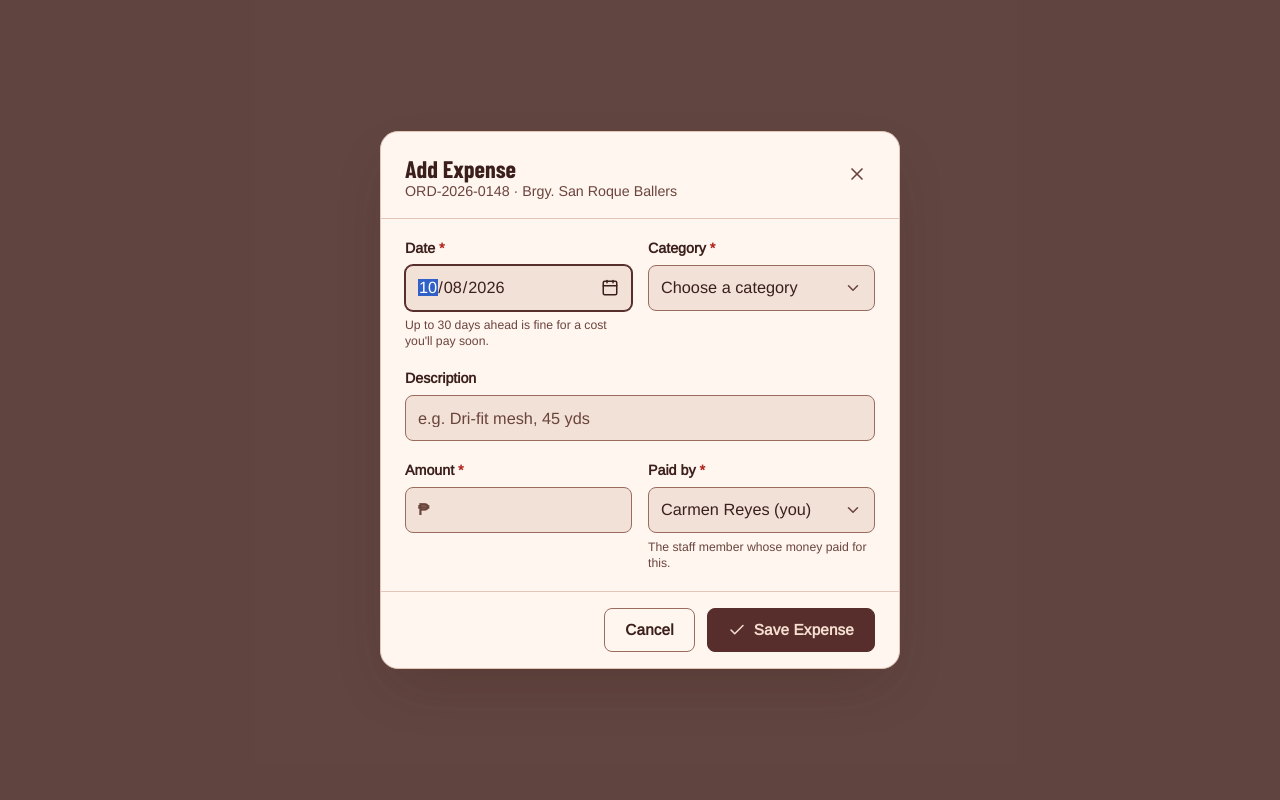
Test: add mode checks before any request (OR-3) › shows "Choose a category." when only the category is missing, focuses it and sends nothing
Step 1. Type "1500" into the field labelled "Amount *" → (530, 510), box [429, 488, 631, 532]
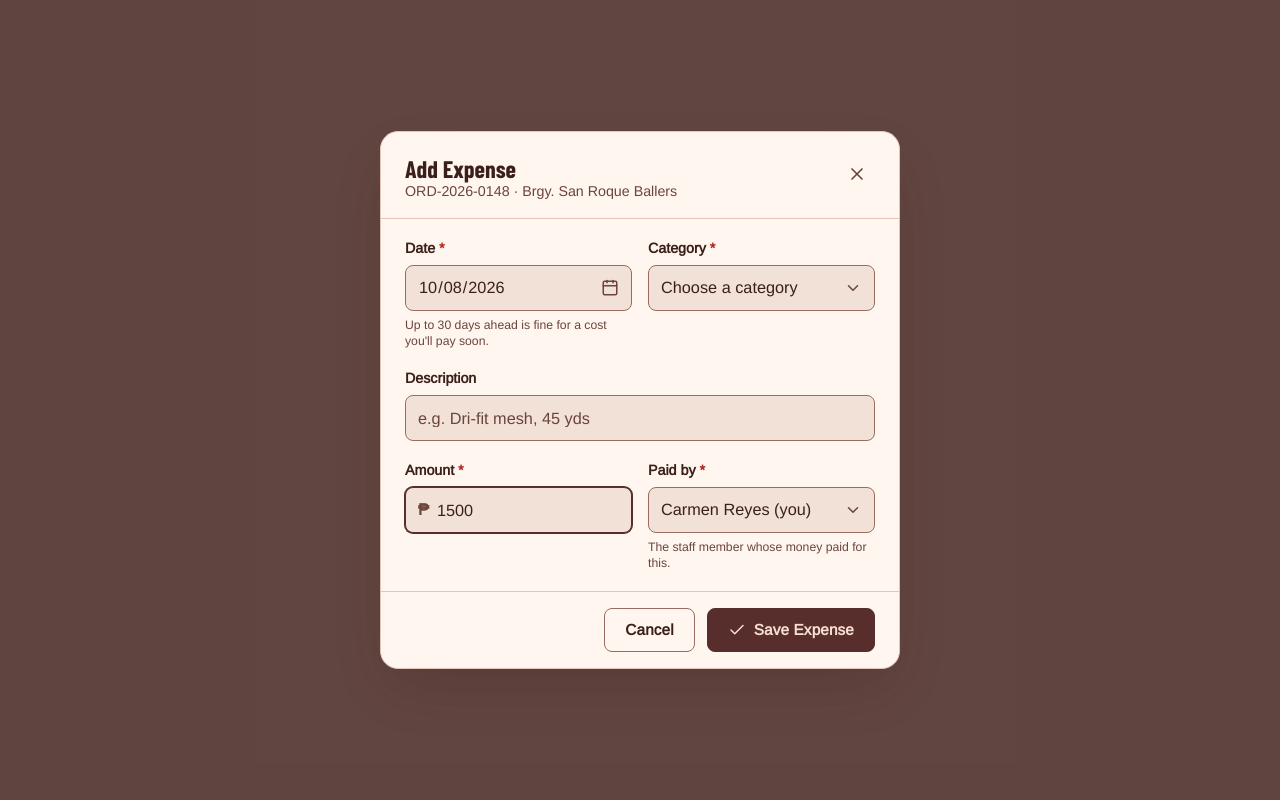
Step 2. Click the button "Save Expense" → click(791, 630), box [707, 608, 875, 652]
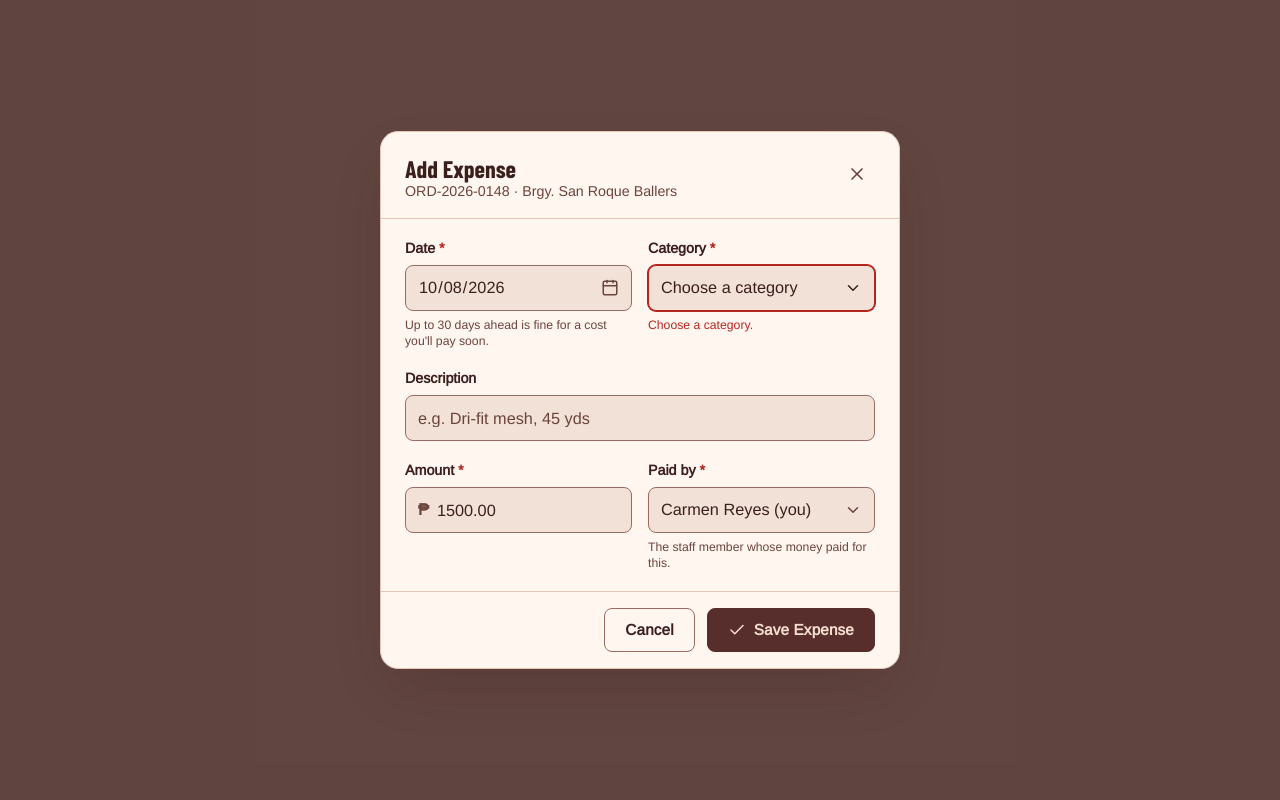
Expected: the text "Choose a category." is shown, [648, 318, 753, 332]
